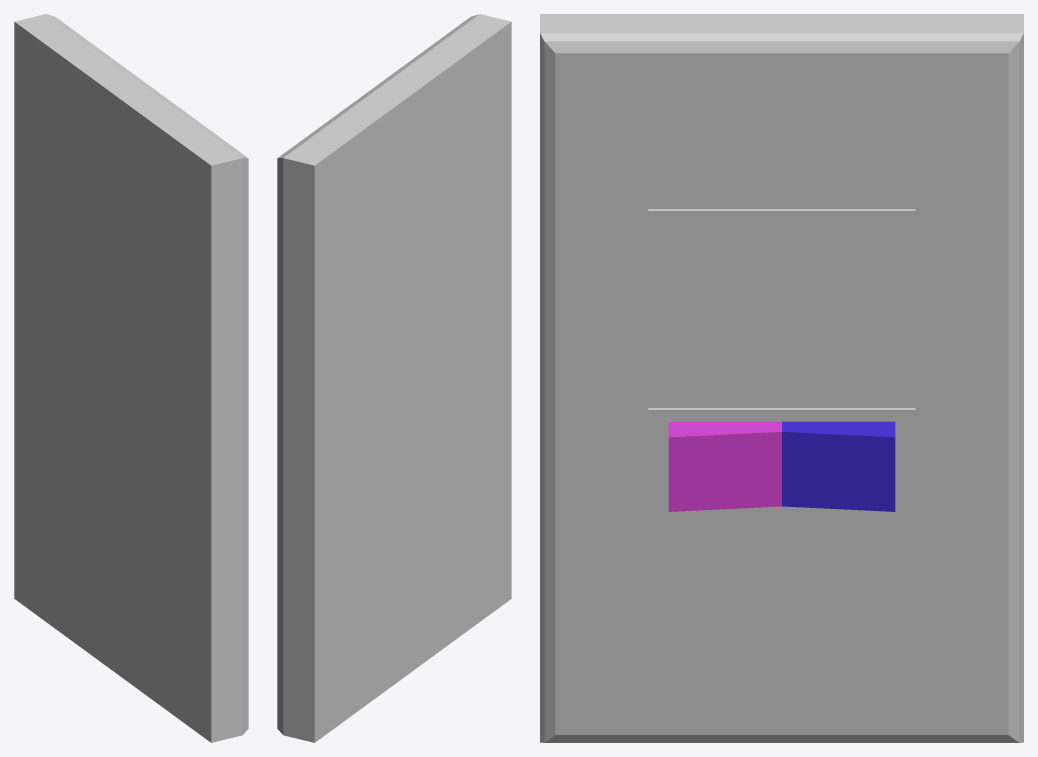
Rendered from interruptor (1).fbx.
The picture shows the model from 3 angles, left to right: view 1: azimuth 30°, elevation 25°; view 2: azimuth 150°, elevation 25°; view 3: azimuth 270°, elevation 25°; orthographic projection. The views are drawn at different scales.
Parts seen in each view (by area): view 1: Cube.008; view 2: Cube.008; view 3: Cube.008, Cube.009.
Part boxes in pixels (x1,y1,x2,y2): Cube.008: [14, 14, 248, 742]; Cube.008: [277, 14, 511, 742]; Cube.008: [540, 14, 1023, 742]; Cube.009: [668, 421, 895, 511].
Size of the model in its own units: 16.56 by 127 by 78.76.
